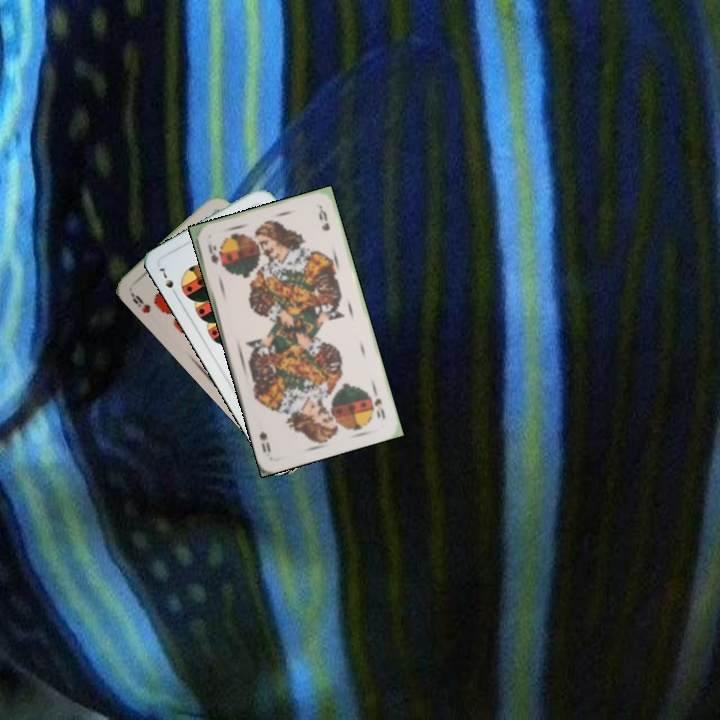H9: (127, 289, 154, 316)
S7: (155, 262, 180, 299)
SO: (369, 384, 388, 421), (204, 240, 221, 267)
